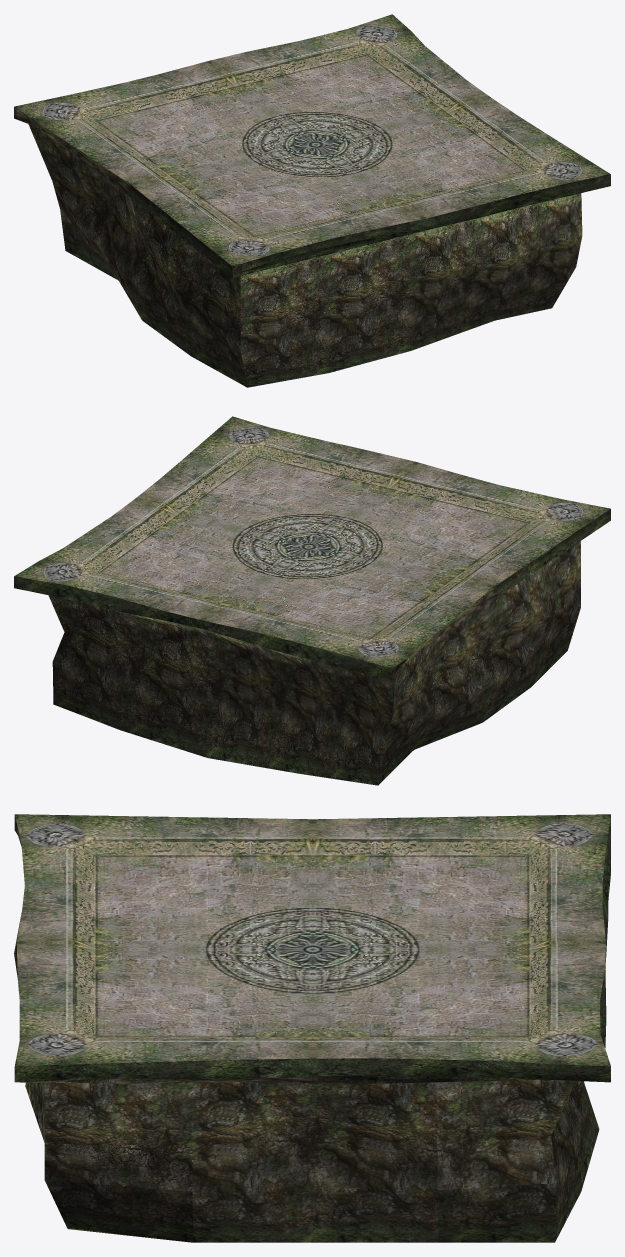
File: dataizi.FBX
3 renders of one model, top to bottom at view 1: azimuth 30°, elevation 25°; view 2: azimuth 150°, elevation 25°; view 3: azimuth 270°, elevation 25°, orthographic. The views are drawn at different scales.
Visible parts, largest first — view 1: Box02; view 2: Box02; view 3: Box02.
Boxes of the visible parts, box(x1,y1,x2,y2) form: Box02: box(14, 14, 610, 387); Box02: box(14, 416, 610, 785); Box02: box(14, 814, 610, 1242).
Bounding box in the file's own units: 1000 × 350 × 1001.
